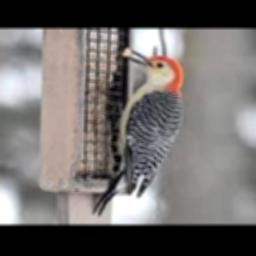Woodpecker: (92, 48, 182, 215)
